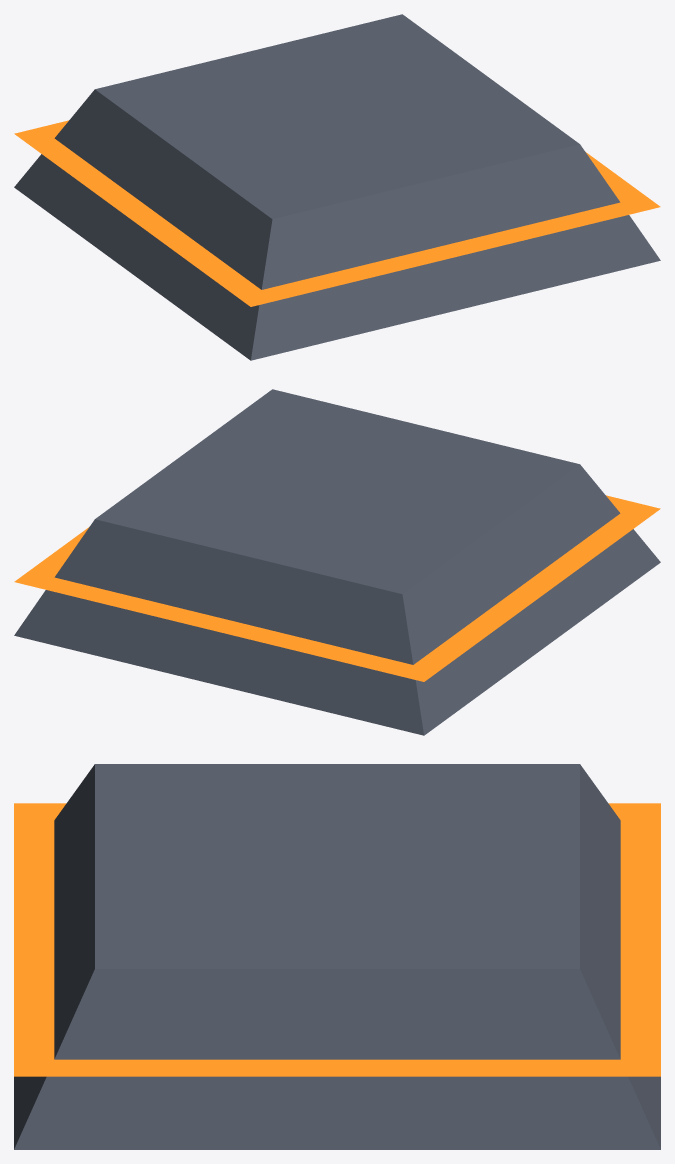
Rendered from surface_modules.gltf.
3 renders of one model, top to bottom at view 1: azimuth 30°, elevation 25°; view 2: azimuth 150°, elevation 25°; view 3: azimuth 270°, elevation 25°, orthographic. The views are drawn at different scales.
Visible parts, largest first — view 1: Factory Floor Panel, Factory Lava Surface; view 2: Factory Floor Panel, Factory Lava Surface; view 3: Factory Floor Panel, Factory Lava Surface.
Part boxes in pixels (bbox=[...]): Factory Floor Panel: bbox=[14, 14, 660, 360]; Factory Lava Surface: bbox=[14, 120, 660, 306]; Factory Floor Panel: bbox=[14, 389, 660, 735]; Factory Lava Surface: bbox=[14, 495, 660, 681]; Factory Floor Panel: bbox=[14, 764, 660, 1149]; Factory Lava Surface: bbox=[14, 803, 660, 1076].
Size of the model in its own units: 2 by 0.5 by 2.
